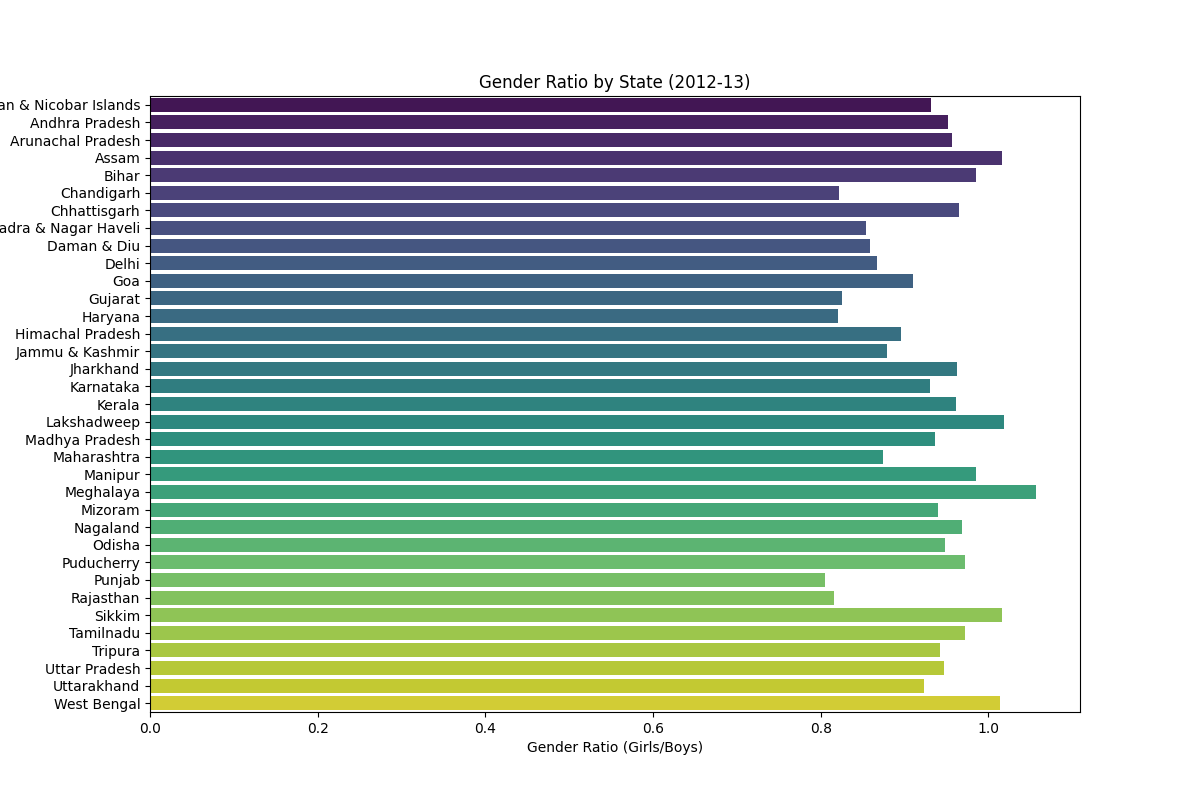

The dashboard page shown, as its layout file describes it:
{"tool":"tableau","page":{"name":"Dashboard 1","canvas":[1000,1000],"units":"permille","ordinal":0},"visuals":[{"type":"worksheet","title":"Sheet 2","mark":"Bar","rows":["count"],"cols":["date","date"],"box":[1.8,480.7,991,499.4]}]}

Visuals, with their boxes on the dashboard's canvas, which has no fixed pixel size, in thousandths of its width and height (x1, y1, x2, y2). These are canvas units, not pixel positions in the 1200x800 screenshot, which may show the page scaled, cropped or inside an application window:
"Sheet 2" worksheet (Bar marks): {"x1": 2, "y1": 481, "x2": 993, "y2": 980}
